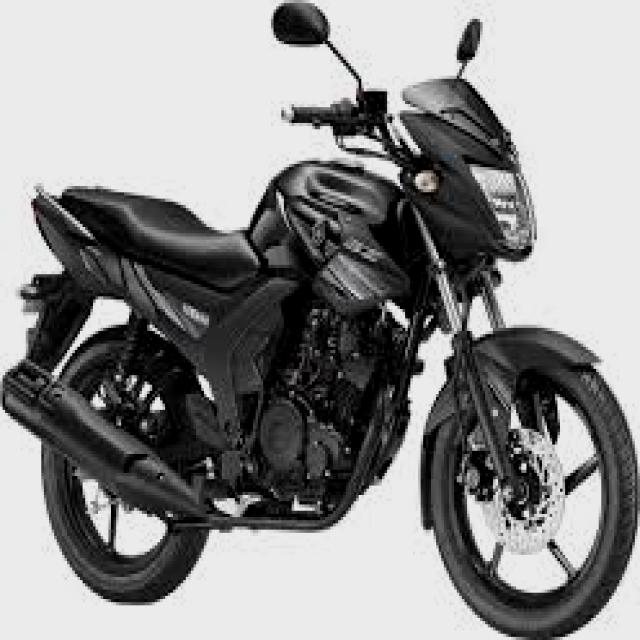MOTORCYCLE: (9, 8, 638, 626)
